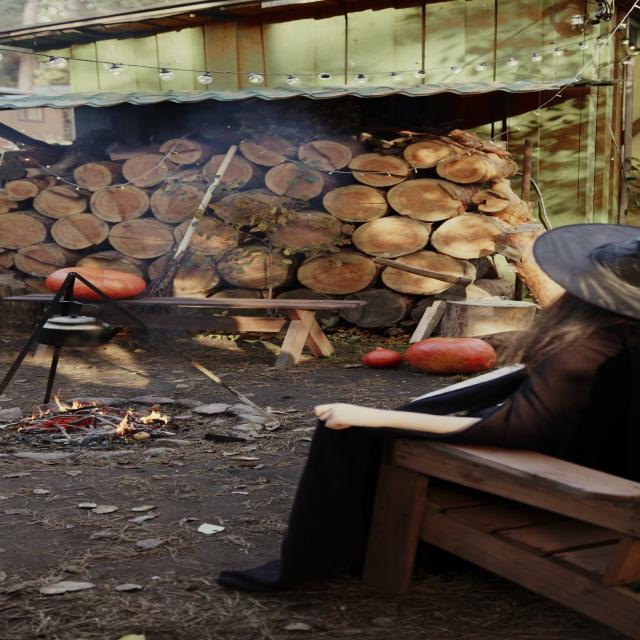Fire: (37, 386, 172, 437)
